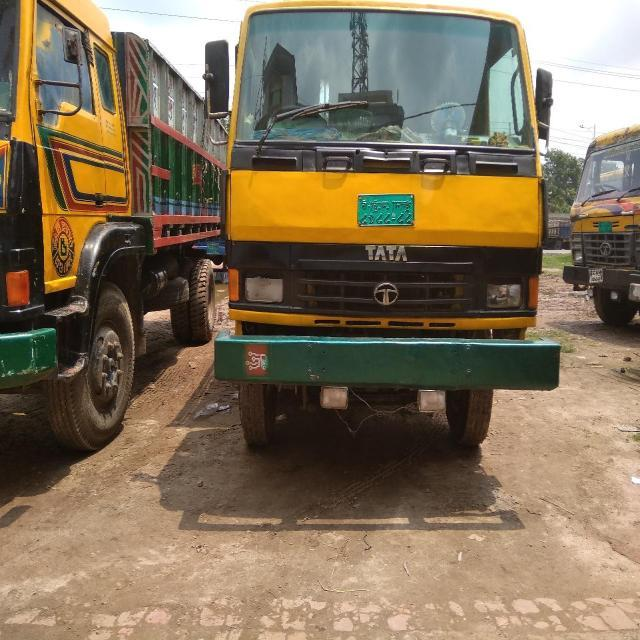numberplate: (357, 193, 416, 227), (588, 267, 606, 284)
